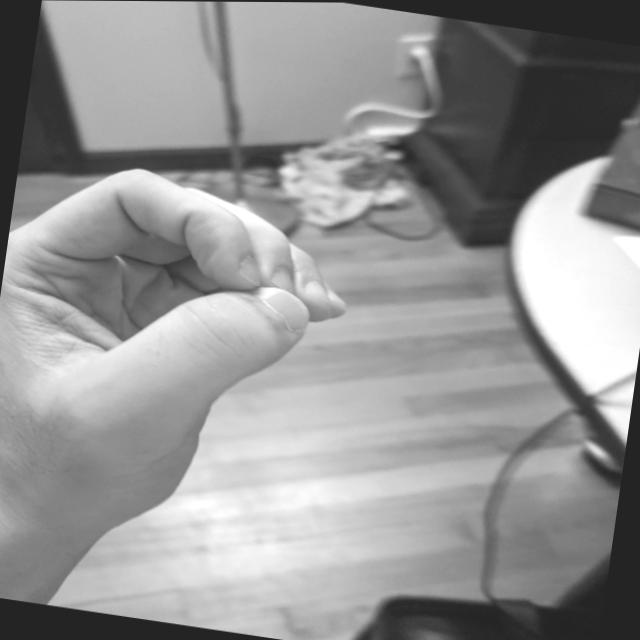O: (0, 143, 373, 561)
